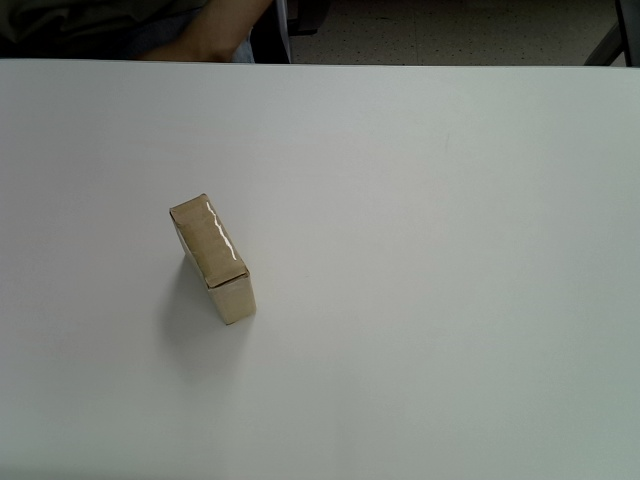normal: (169, 194, 257, 326)
